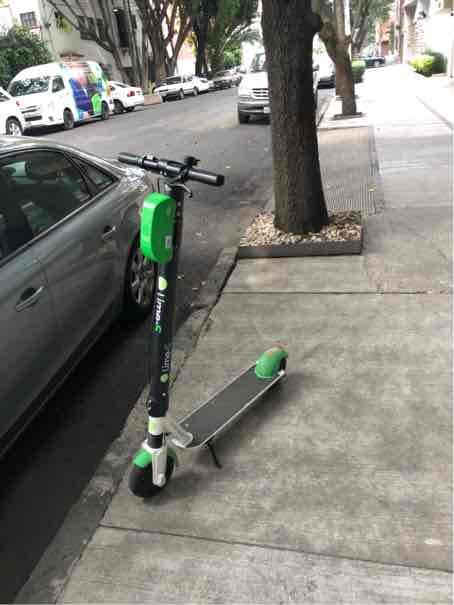scooter: (108, 151, 304, 516)
